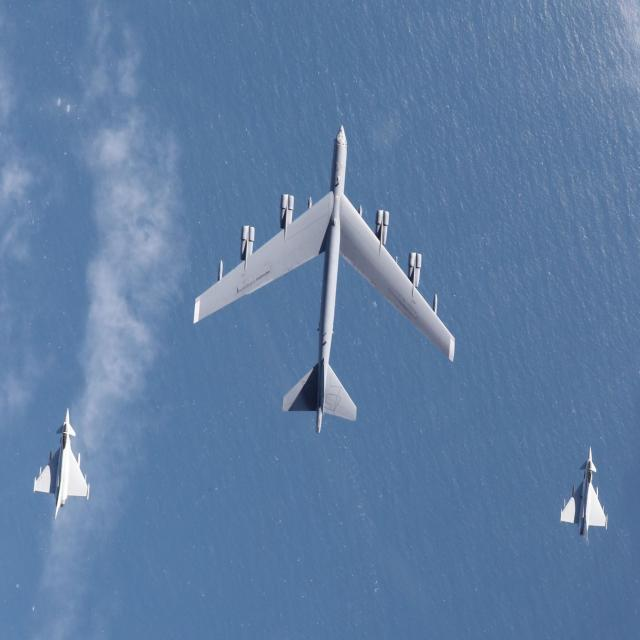MIL_Plane: (289, 29, 359, 146), (33, 407, 90, 519), (560, 445, 608, 547)
